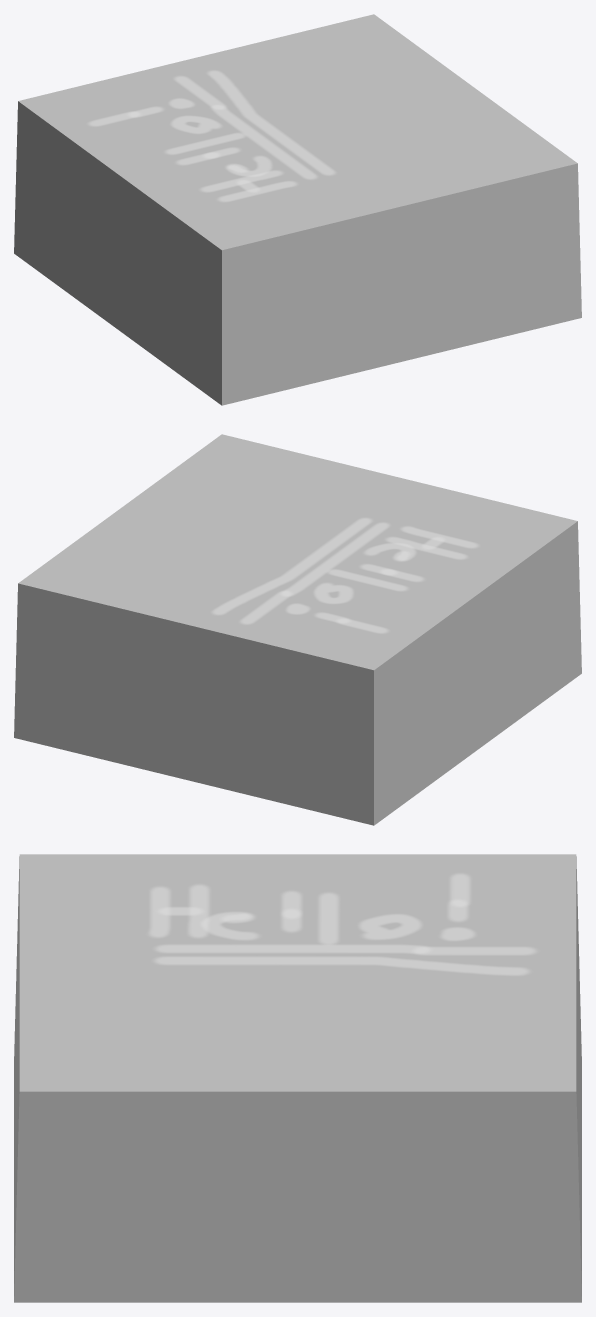
The model's file is plate.glb.
3 renders of one model, top to bottom at view 1: azimuth 30°, elevation 25°; view 2: azimuth 150°, elevation 25°; view 3: azimuth 270°, elevation 25°, orthographic. The views are drawn at different scales.
Visible parts, largest first — view 1: Cube; view 2: Cube; view 3: Cube.
Boxes of the visible parts, x1,y1,x2,y2 form: Cube: (14, 14, 581, 405); Cube: (14, 434, 581, 825); Cube: (14, 854, 581, 1302).
Size of the model in its own units: 0.25 by 0.1018 by 0.25.
1 material, 1 textured.
